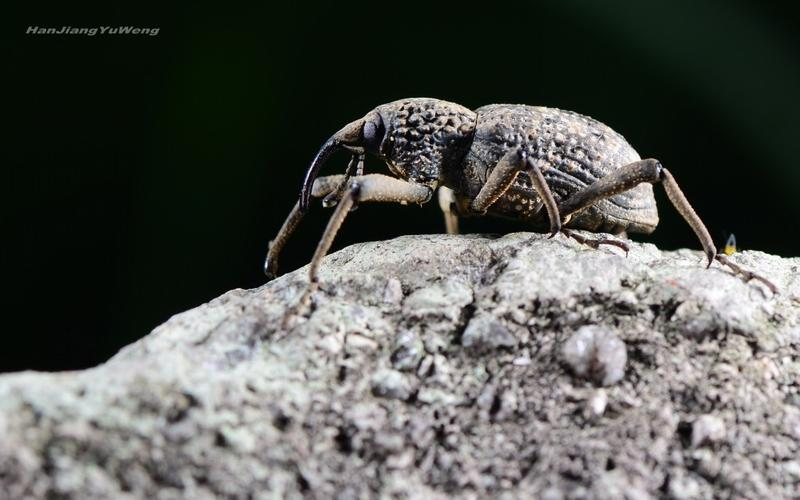Curculionidae: (264, 97, 780, 327)
